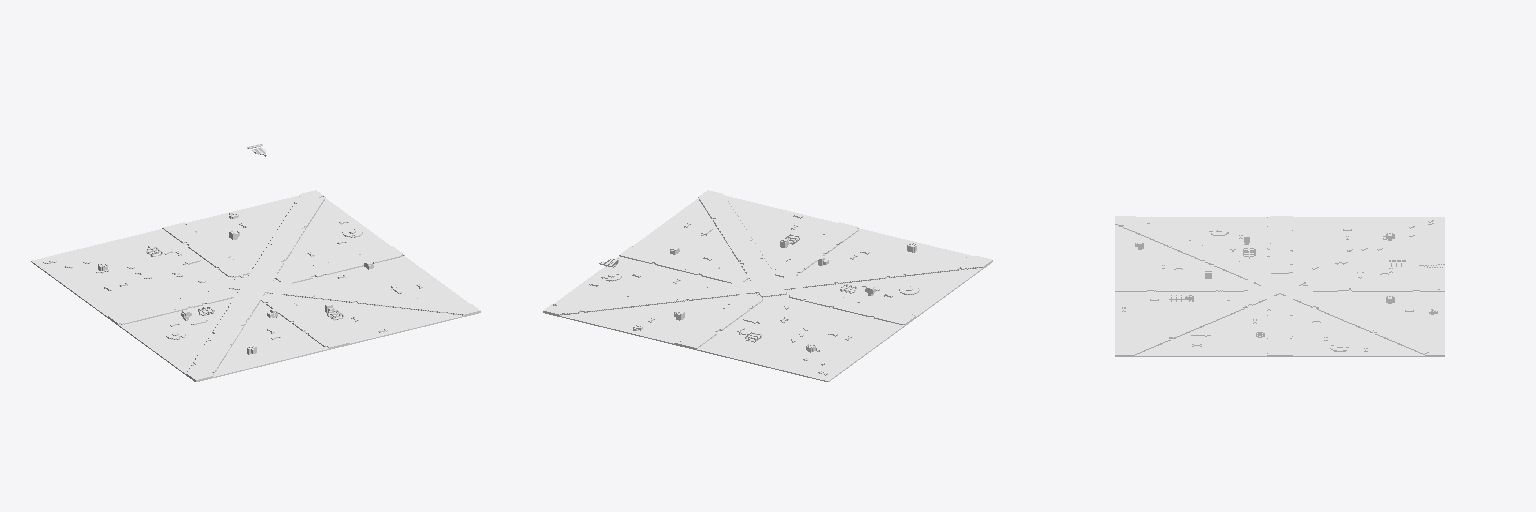
The model's file is shadow-8.obj.
The picture shows the model from 3 angles: view 1: azimuth 30°, elevation 25°; view 2: azimuth 150°, elevation 25°; view 3: azimuth 270°, elevation 25°; orthographic projection.
Visible parts, largest first — view 1: object 1; view 2: object 1; view 3: object 1.
Boxes of the visible parts, box(x1,y1,x2,y2) form: object 1: box(31, 144, 480, 381); object 1: box(543, 190, 992, 381); object 1: box(1115, 216, 1444, 356).
Size of the model in its own units: 25.6 by 5.4 by 25.6.